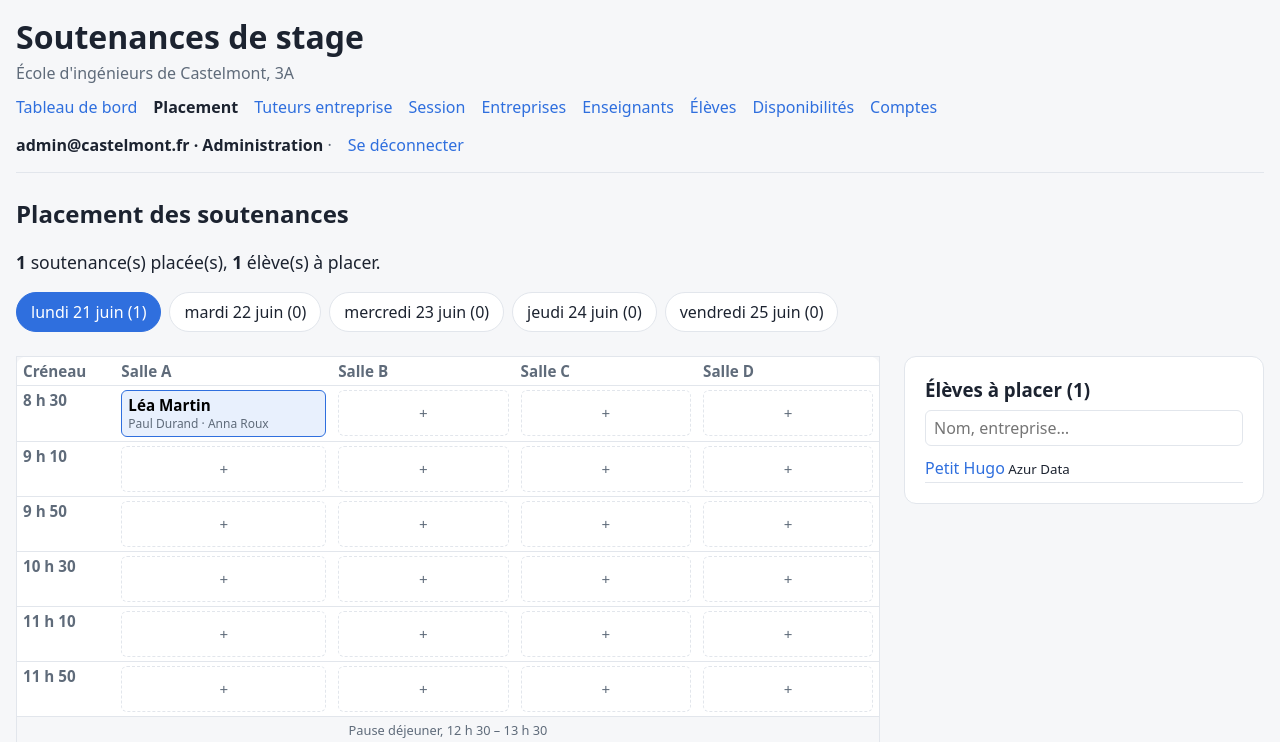
Test: PlacementPage, placing › lists the blocking violations before saving, and does not let it save
Click the button named "Placer lun. 21 8 h 30, Salle B" at (423, 412), box [338,390,509,436]
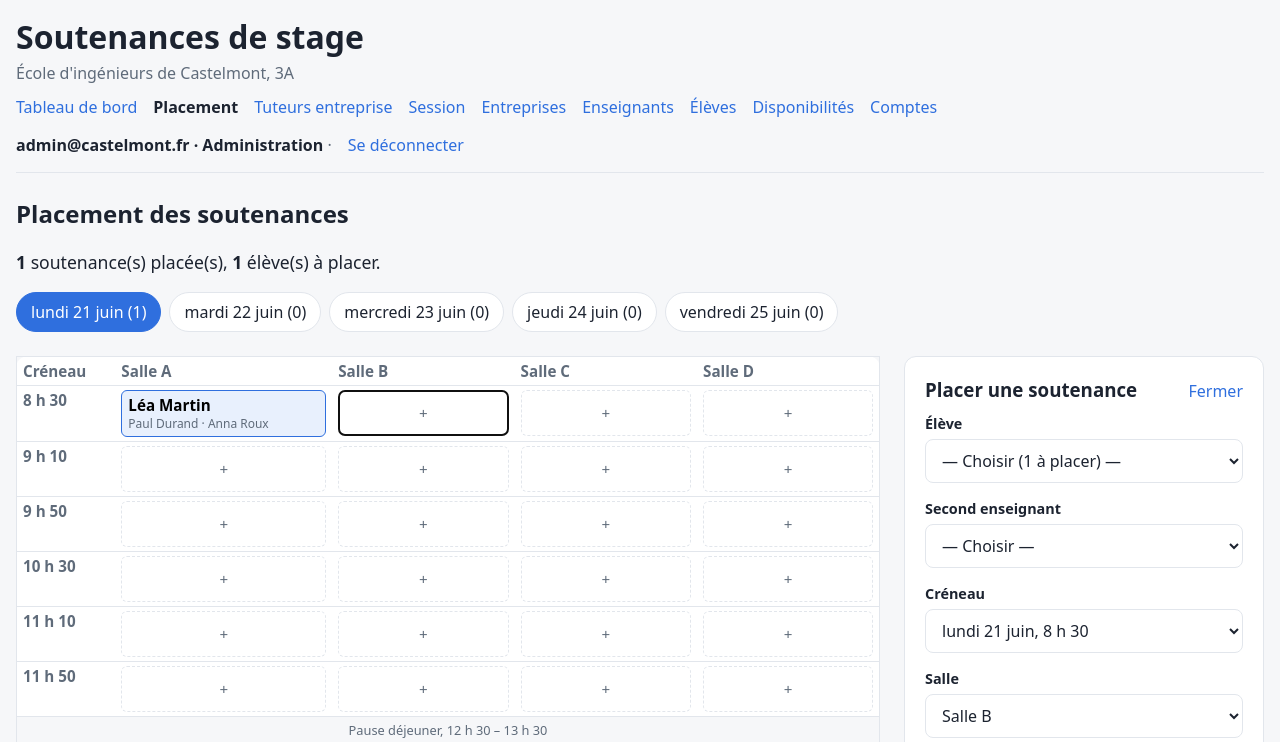
Select "Petit Hugo — Azur Data" in the dropdown labelled "Élève" at (1084, 460), box [925,438,1243,482]
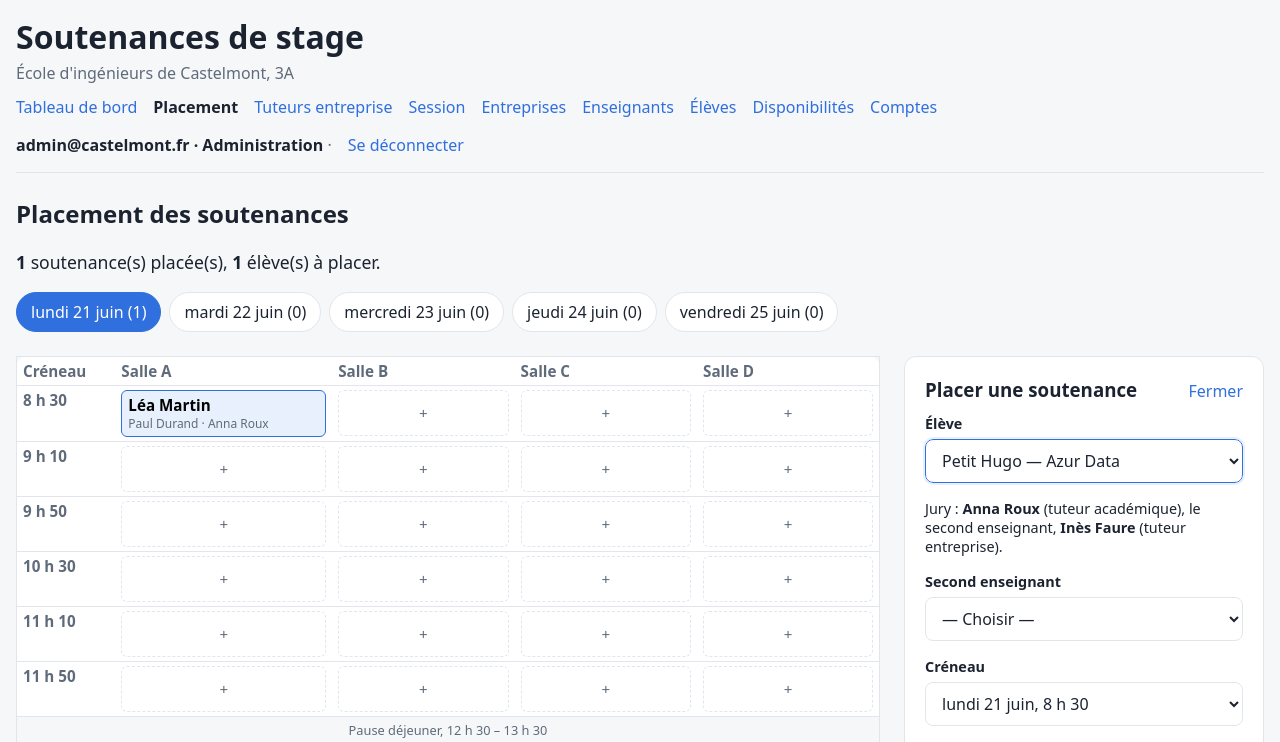
Select "Durand Paul" in the dropdown labelled "Second enseignant" at (1084, 618), box [925,596,1243,640]
(page scrolled)
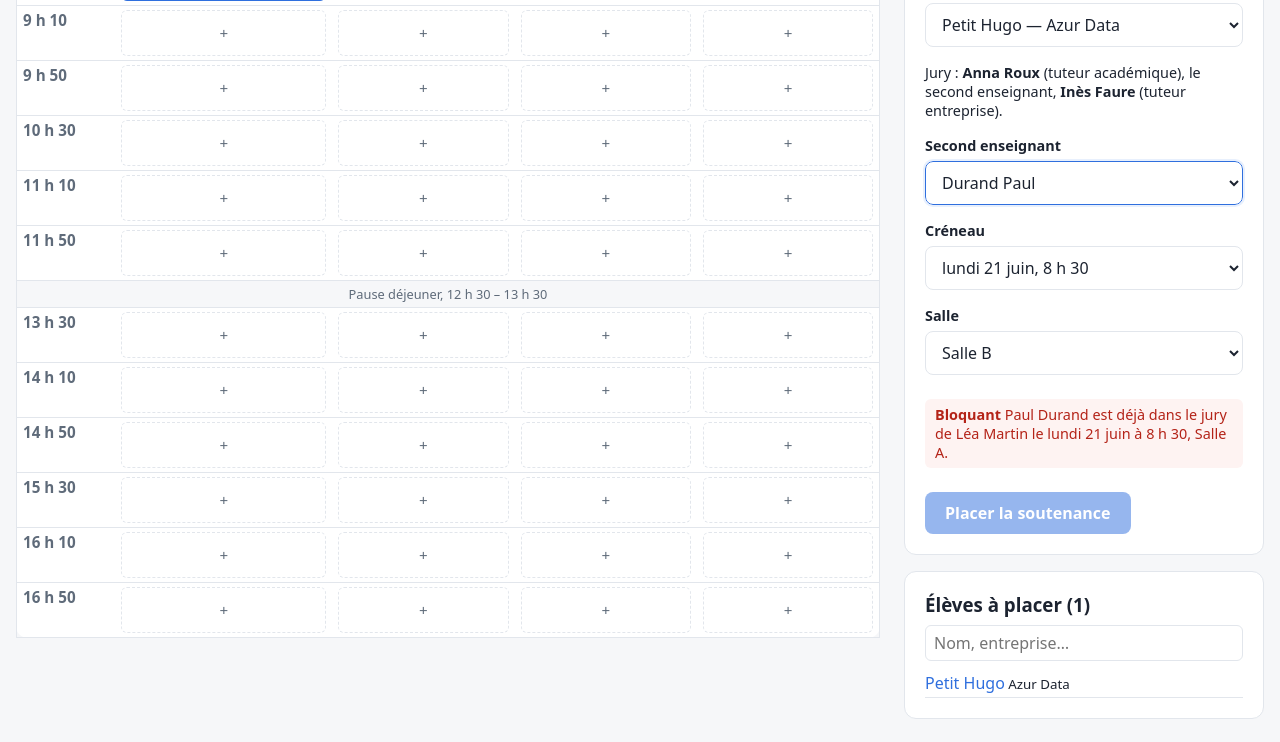
Expected: the button "Placer la soutenance" is disabled, [925,492,1130,534]
Expected: the list item "Paul Durand est déjà dans le jury de Léa Martin le lundi 21 juin à 8 h 30, Salle A." is shown, [935,404,1227,462]
Expected: the text "Bloquant" is shown, [935,404,1001,424]
